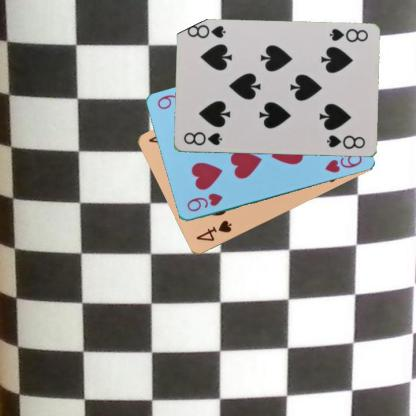4s: (193, 218, 233, 243)
8s: (327, 26, 369, 44), (181, 130, 223, 147)
9h: (184, 191, 224, 213)
